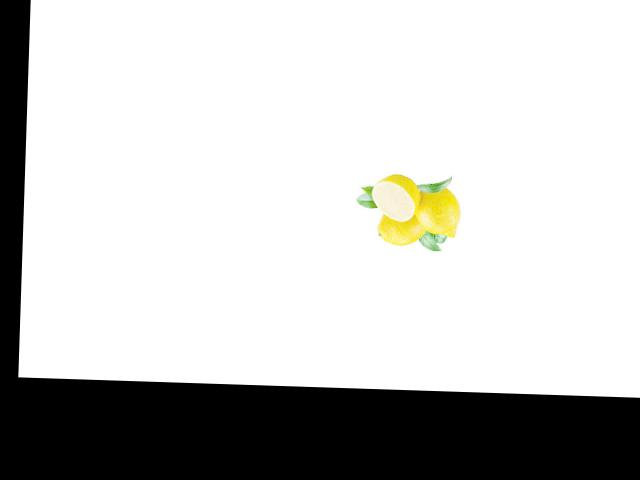lemon: (411, 180, 464, 244)
